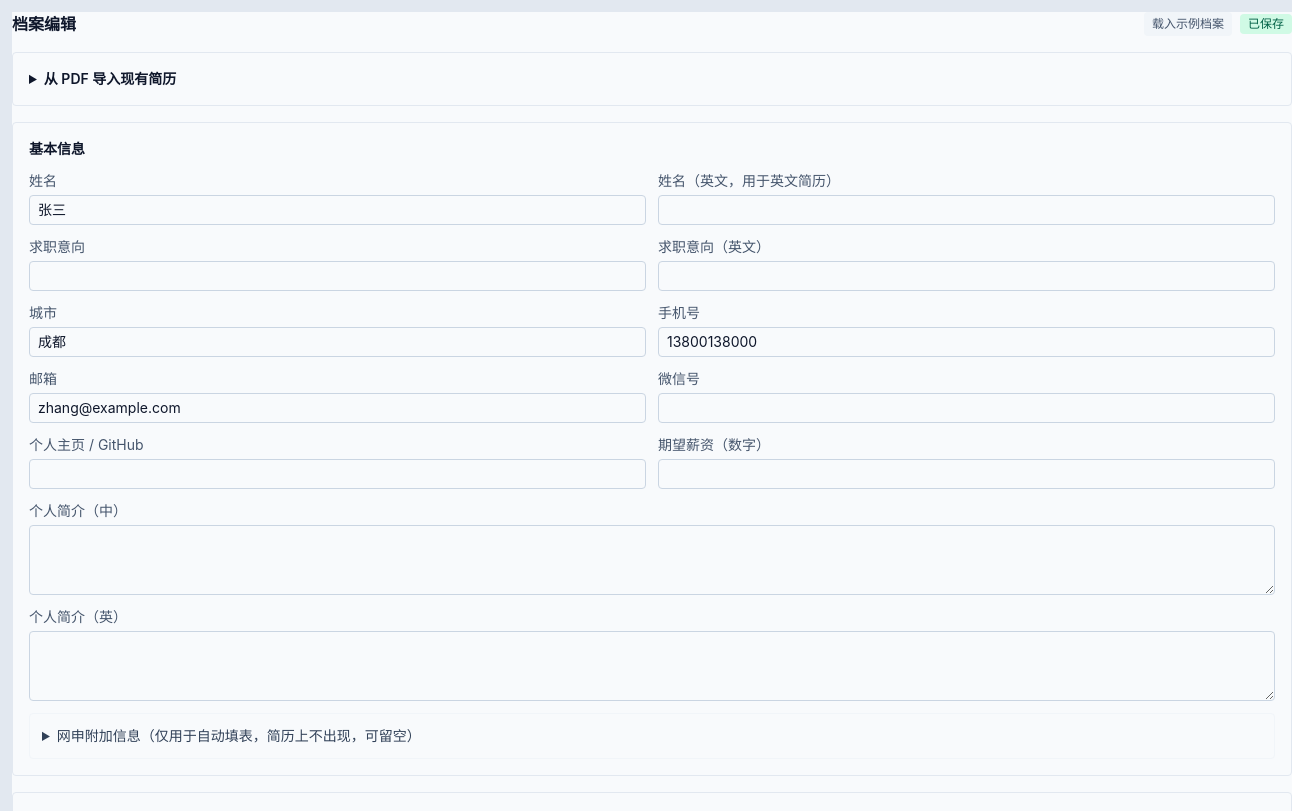
Test: 全库编辑 —— 分区条目在界面上的投影 › clean 态提供「载入示例档案」—— 示例只是草稿起点，保存前不落库
Click the button with test id "editor-load-sample" at (1188, 24), box [1144, 12, 1232, 36]
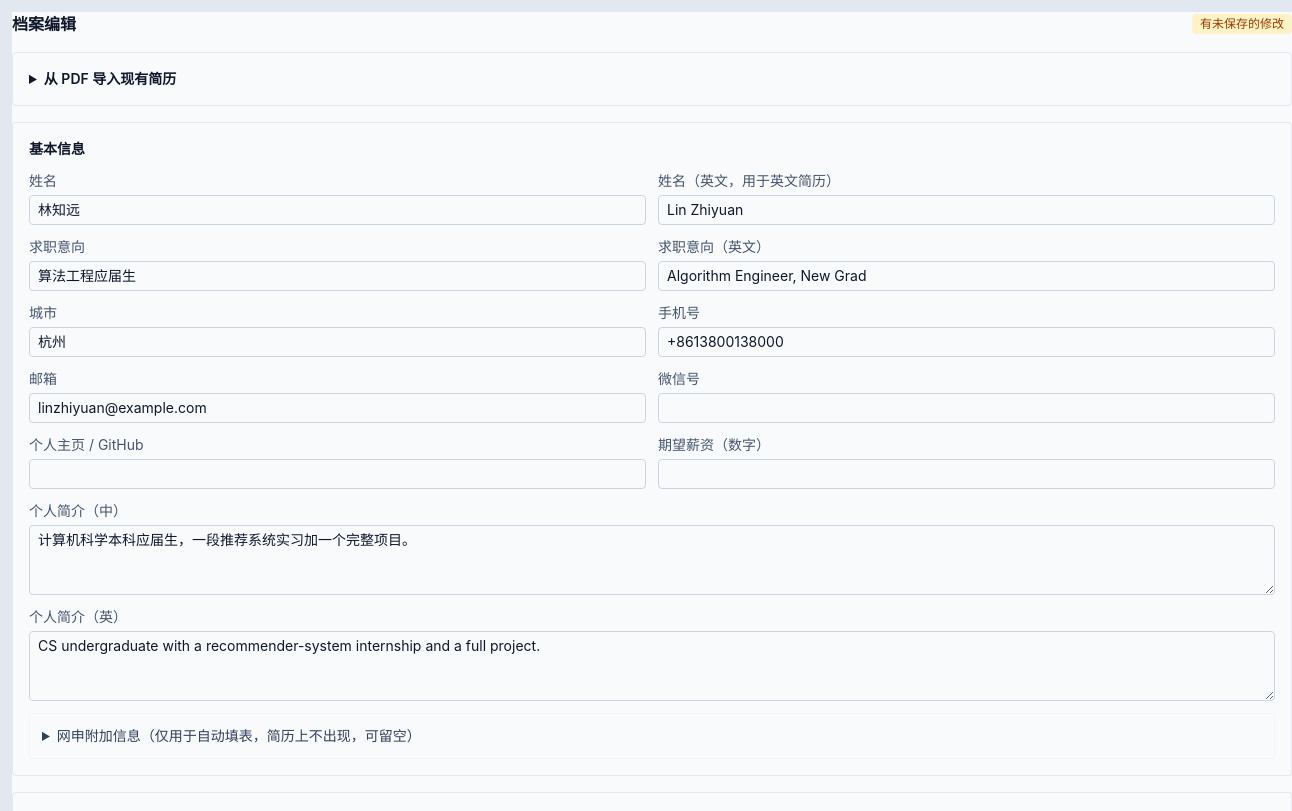
Expected: the text with test id "editor-status" reads "有未保存的修改", [1200, 16, 1284, 31]
